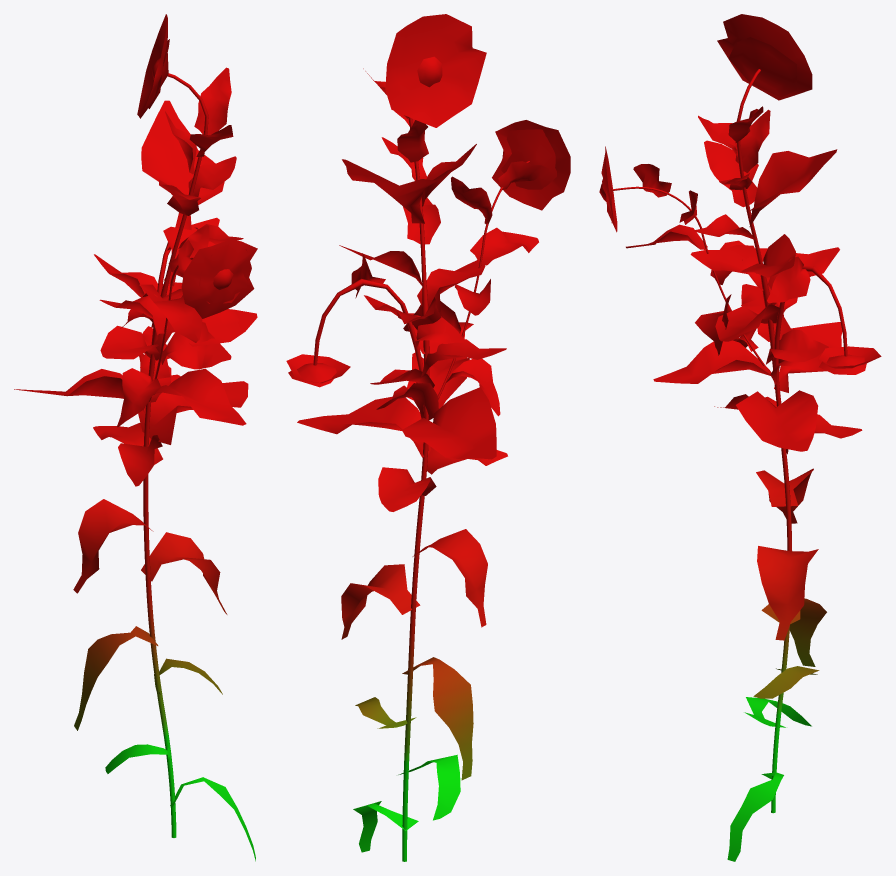
File: Crownbeard_LOD0_Var7_tefoajkr.fbx
The picture shows the model from 3 angles, left to right: view 1: azimuth 30°, elevation 25°; view 2: azimuth 150°, elevation 25°; view 3: azimuth 270°, elevation 25°; orthographic projection. The views are drawn at different scales.
Visible parts, largest first — view 1: _f100_Var7_LOD0; view 2: _f100_Var7_LOD0; view 3: _f100_Var7_LOD0.
Boxes of the visible parts, left/top/right/bottom form: _f100_Var7_LOD0: left=14, top=14, right=257, bottom=861; _f100_Var7_LOD0: left=286, top=14, right=570, bottom=861; _f100_Var7_LOD0: left=599, top=14, right=881, bottom=861.
Bounding box in the file's own units: 21.15 × 80.11 × 25.3.
